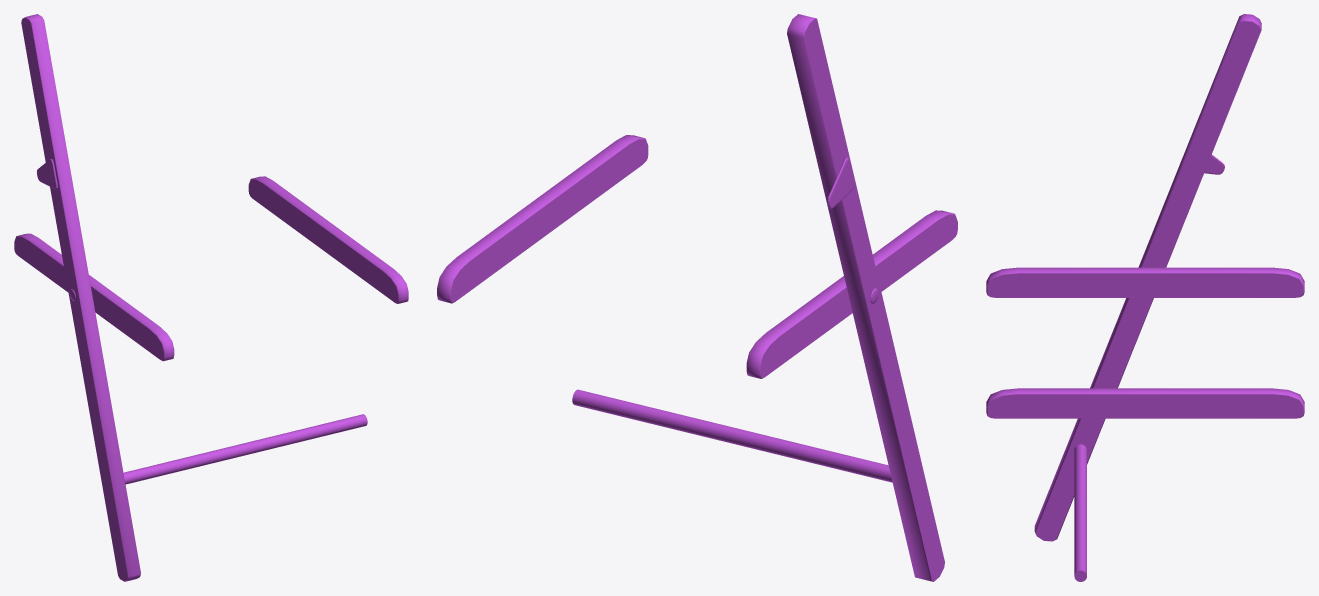
Rendered from leg1.obj.
3 renders of one model, left to right at view 1: azimuth 30°, elevation 25°; view 2: azimuth 150°, elevation 25°; view 3: azimuth 270°, elevation 25°, orthographic. The views are drawn at different scales.
Parts seen in each view (by area): view 1: leg1; view 2: leg1; view 3: leg1.
Part boxes in pixels (x1,y1,x2,y2): leg1: [14, 14, 408, 581]; leg1: [437, 14, 957, 581]; leg1: [986, 14, 1304, 581].
Bounding box in the file's own units: 15.64 × 28.4 × 15.71.
